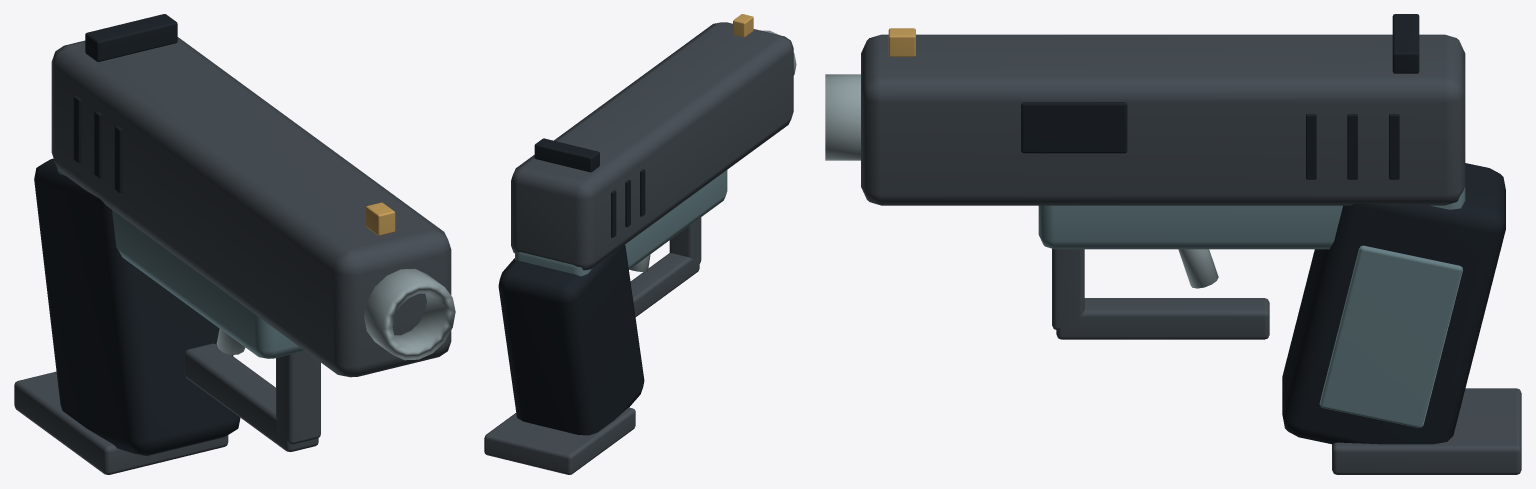
Rendered from glock17.glb.
The picture shows the model from 3 angles, left to right: view 1: azimuth 30°, elevation 25°; view 2: azimuth 150°, elevation 25°; view 3: azimuth 270°, elevation 25°; orthographic projection. The views are drawn at different scales.
Parts seen in each view (by area): view 1: glock17_Cerakote graphite, glock17_Recesses and rubber, glock17_glock17 painted furniture, glock17_Machined edges, glock17_Warm brass details; view 2: glock17_Cerakote graphite, glock17_Recesses and rubber, glock17_glock17 painted furniture, glock17_Warm brass details; view 3: glock17_Cerakote graphite, glock17_Recesses and rubber, glock17_glock17 painted furniture, glock17_Machined edges, glock17_Warm brass details.
Boxes of the visible parts, bbox=[...] form: glock17_Cerakote graphite: bbox=[14, 37, 451, 474]; glock17_Recesses and rubber: bbox=[34, 14, 240, 456]; glock17_glock17 painted furniture: bbox=[57, 169, 304, 358]; glock17_Machined edges: bbox=[216, 268, 455, 360]; glock17_Warm brass details: bbox=[366, 202, 395, 235]; glock17_Cerakote graphite: bbox=[484, 22, 793, 474]; glock17_Recesses and rubber: bbox=[498, 138, 645, 435]; glock17_glock17 painted furniture: bbox=[515, 170, 727, 276]; glock17_Warm brass details: bbox=[733, 14, 753, 37]; glock17_Cerakote graphite: bbox=[861, 34, 1521, 474]; glock17_Recesses and rubber: bbox=[1021, 14, 1505, 444]; glock17_glock17 painted furniture: bbox=[1038, 187, 1465, 427]; glock17_Machined edges: bbox=[825, 74, 1218, 288]; glock17_Warm brass details: bbox=[888, 28, 915, 56].
Size of the model in its own units: 0.0784 by 0.2469 by 0.376.
